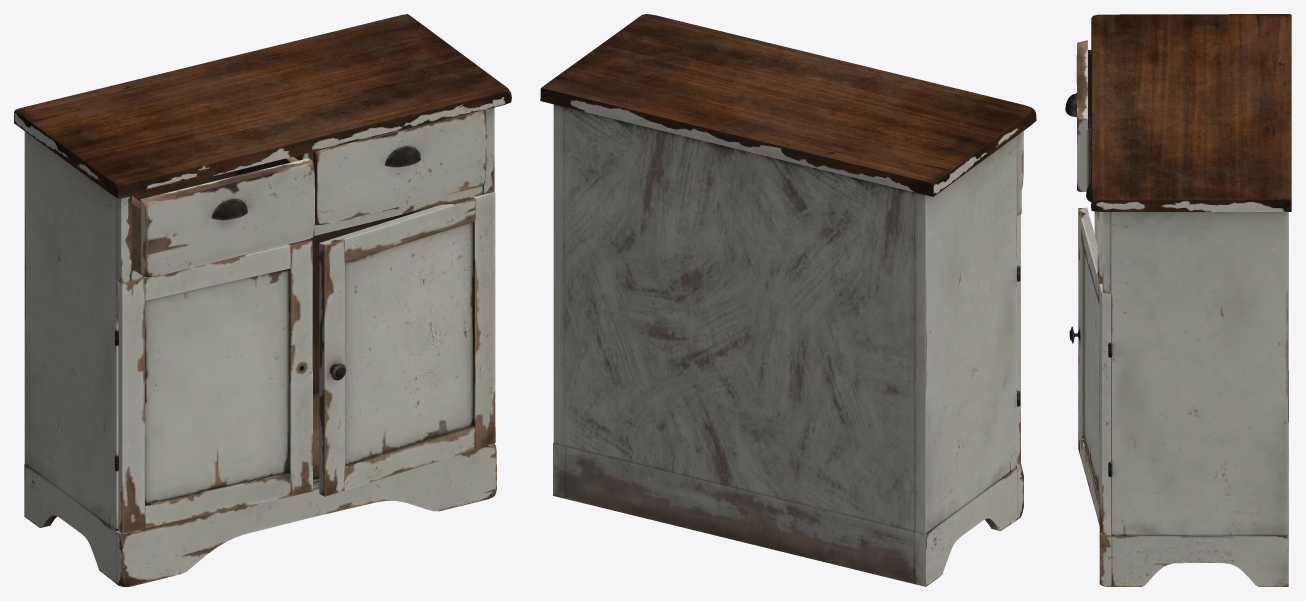
The model's file is 30a3d1c5-6554-42fd-a8d0-a1efdff162b3.glb.
3 renders of one model, left to right at view 1: azimuth 30°, elevation 25°; view 2: azimuth 150°, elevation 25°; view 3: azimuth 270°, elevation 25°, orthographic. The views are drawn at different scales.
Parts seen in each view (by area): view 1: painted_wooden_cabinet; view 2: painted_wooden_cabinet; view 3: painted_wooden_cabinet.
Part boxes in pixels (<box>): painted_wooden_cabinet: <box>14,14,511,586</box>; painted_wooden_cabinet: <box>540,14,1036,586</box>; painted_wooden_cabinet: <box>1065,14,1291,586</box>.
Size of the model in its own units: 1.19 by 1.18 by 0.6166.
Materials: 1 (1 with a texture image).
